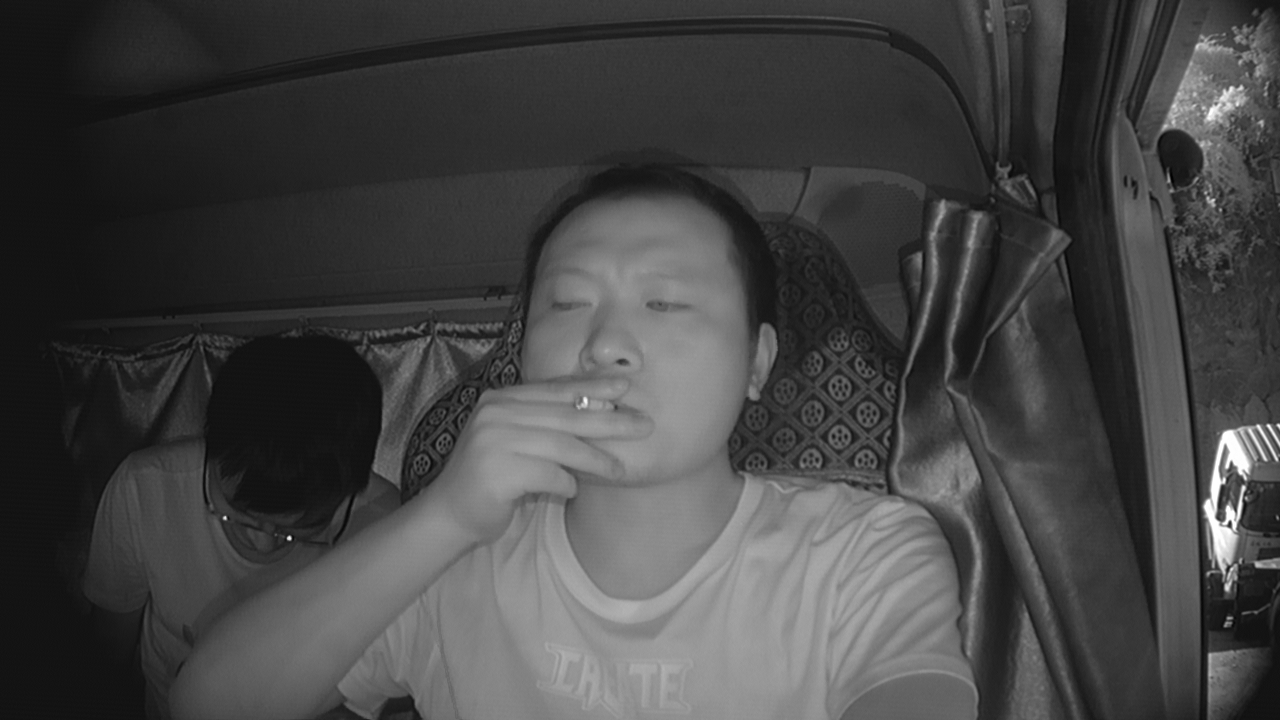hand: (495, 371, 635, 527)
